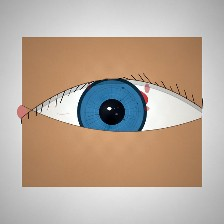hemorrhage_spot: (69, 63, 161, 136)
